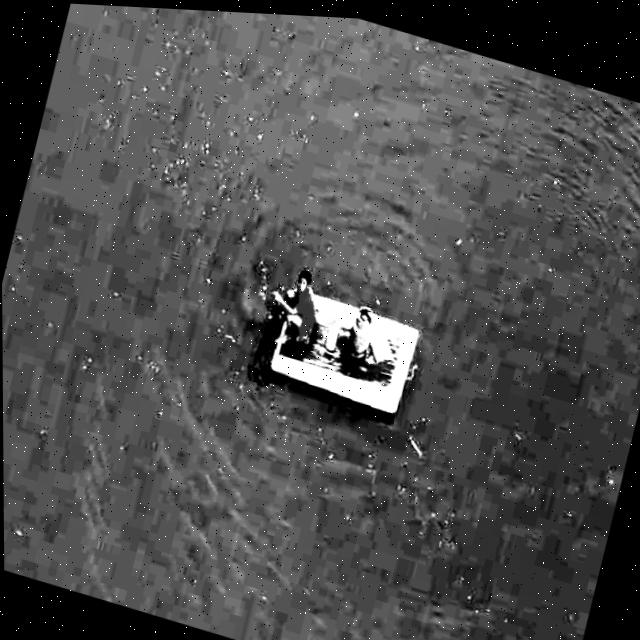civilian: (259, 259, 326, 367)
